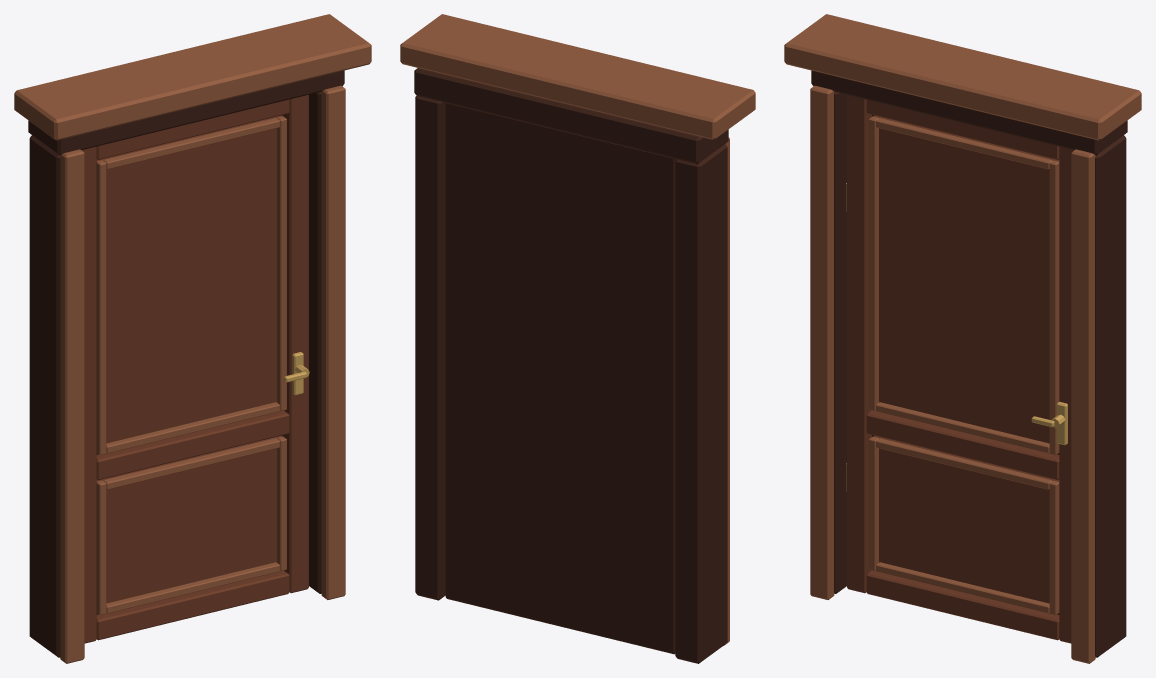
Rendered from door_08.glb.
3 renders of one model, left to right at view 1: azimuth 30°, elevation 25°; view 2: azimuth 150°, elevation 25°; view 3: azimuth 330°, elevation 25°, orthographic.
Visible parts, largest first — view 1: Panel_0_1_Field, Cornice, Panel_0_0_Field, Jamb__1, Jamb_moulding__1, Jamb_moulding_1, Leaf_stile_0_1, Jamb_1, Leaf_stile_0__1, Lintel, Leaf_crossrail_0_0_795, Leaf_crossrail_0_0_048 (+9 smaller); view 2: Leaf_0, Jamb__1, Cornice, Jamb_1, Lintel, Jamb_moulding__1; view 3: Panel_0_1_Field, Cornice, Panel_0_0_Field, Jamb_1, Jamb_moulding_1, Jamb_moulding__1, Leaf_stile_0__1, Jamb__1, Leaf_stile_0_1, Lintel, Leaf_crossrail_0_0_795, Leaf_crossrail_0_0_048 (+9 smaller).
Boxes of the visible parts, left/top/right/bottom form: Panel_0_1_Field: left=96, top=115, right=282, bottom=443; Cornice: left=14, top=14, right=371, bottom=140; Panel_0_0_Field: left=96, top=435, right=281, bottom=603; Jamb__1: left=29, top=135, right=60, bottom=657; Jamb_moulding__1: left=60, top=149, right=84, bottom=663; Jamb_moulding_1: left=321, top=85, right=345, bottom=599; Leaf_stile_0_1: left=284, top=95, right=308, bottom=593; Jamb_1: left=309, top=91, right=321, bottom=593; Leaf_stile_0__1: left=81, top=146, right=96, bottom=643; Lintel: left=28, top=70, right=344, bottom=155; Leaf_crossrail_0_0_795: left=96, top=410, right=289, bottom=480; Leaf_crossrail_0_0_048: left=96, top=570, right=289, bottom=640; Leaf_0: left=445, top=103, right=676, bottom=654; Jamb__1: left=675, top=144, right=727, bottom=663; Cornice: left=400, top=14, right=755, bottom=139; Jamb_1: left=415, top=96, right=445, bottom=600; Lintel: left=414, top=68, right=728, bottom=164; Jamb_moulding__1: left=723, top=137, right=729, bottom=645; Panel_0_1_Field: left=873, top=115, right=1059, bottom=443; Cornice: left=784, top=14, right=1141, bottom=140; Panel_0_0_Field: left=874, top=435, right=1059, bottom=603; Jamb_1: left=1095, top=135, right=1126, bottom=657; Jamb_moulding_1: left=1071, top=149, right=1095, bottom=663; Jamb_moulding__1: left=810, top=85, right=834, bottom=599; Leaf_stile_0__1: left=847, top=95, right=871, bottom=593; Jamb__1: left=834, top=91, right=846, bottom=593; Leaf_stile_0_1: left=1059, top=146, right=1074, bottom=643; Lintel: left=811, top=70, right=1127, bottom=155; Leaf_crossrail_0_0_795: left=866, top=410, right=1059, bottom=480; Leaf_crossrail_0_0_048: left=866, top=570, right=1059, bottom=640.
Size of the model in its own units: 1.55 by 2.59 by 0.37.
